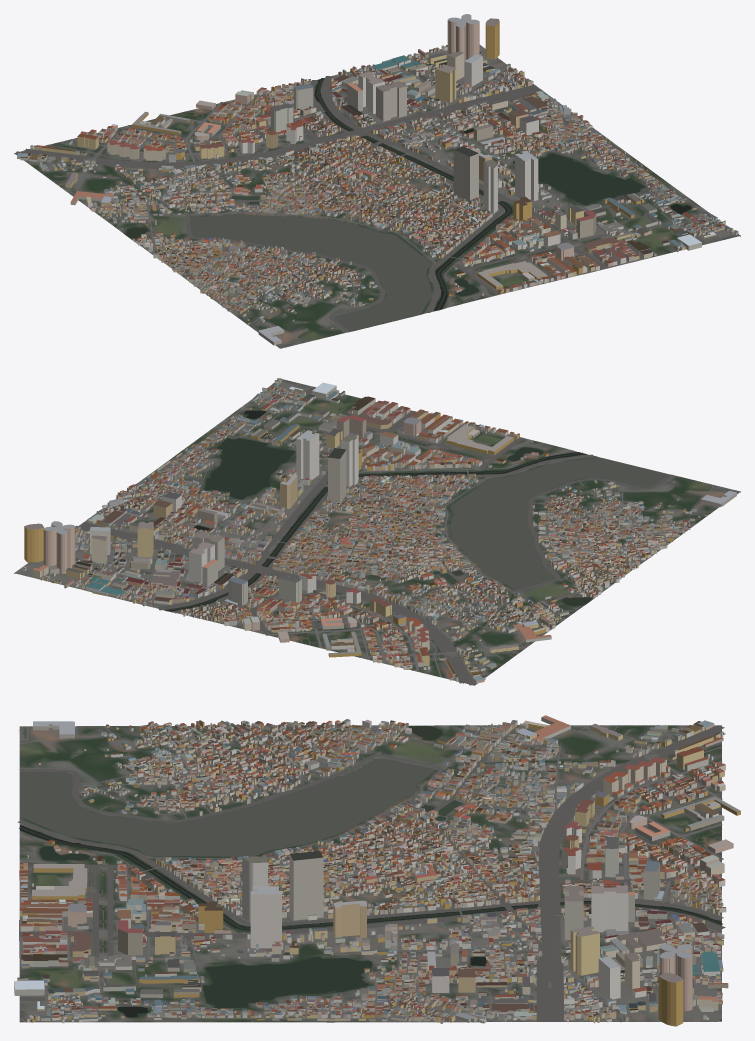
3 views of the same model, one above another, from view 1: azimuth 30°, elevation 25°; view 2: azimuth 150°, elevation 25°; view 3: azimuth 270°, elevation 25° (orthographic). The views are drawn at different scales.
Parts seen in each view (by area): view 1: buildings, ground, water, roads; view 2: buildings, ground, water, roads; view 3: buildings, ground, water, roads.
Part boxes in pixels (x1=…): buildings: x1=17, y1=14, x2=738, y2=345; ground: x1=14, y1=45, x2=740, y2=348; water: x1=104, y1=78, x2=691, y2=331; roads: x1=15, y1=46, x2=738, y2=347; buildings: x1=21, y1=378, x2=736, y2=683; ground: x1=14, y1=379, x2=740, y2=685; water: x1=165, y1=410, x2=669, y2=646; roads: x1=18, y1=380, x2=739, y2=685; buildings: x1=14, y1=715, x2=740, y2=1026; ground: x1=19, y1=725, x2=721, y2=1022; water: x1=19, y1=725, x2=722, y2=1017; roads: x1=17, y1=724, x2=725, y2=1022.
Size of the model in its own units: 1452 by 137 by 1451.
